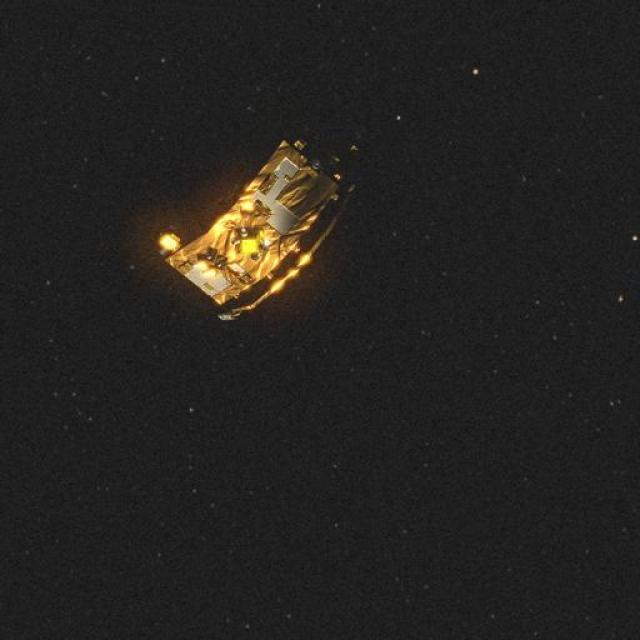lisa_pathfinder: (118, 119, 395, 356)
